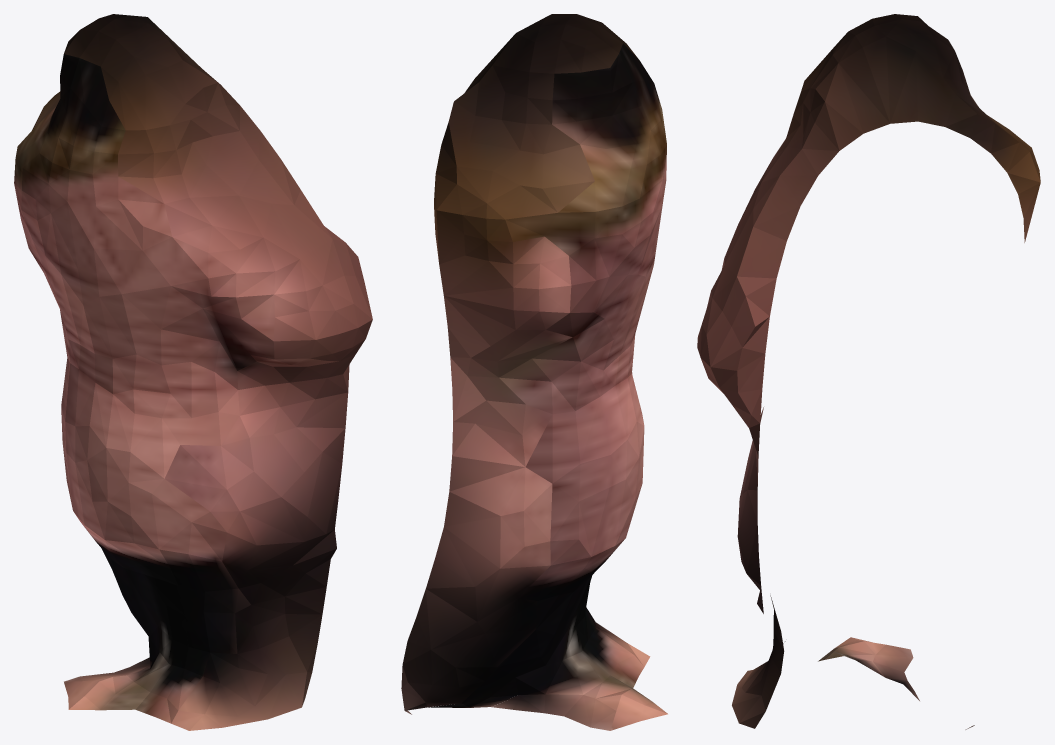
3 views of the same model, side by side, from view 1: azimuth 30°, elevation 25°; view 2: azimuth 150°, elevation 25°; view 3: azimuth 270°, elevation 25° (orthographic). The views are drawn at different scales.
Bounding box in the file's own units: 0.4657 × 1.16 × 0.5506.
Materials: 1 (1 with a texture image).
